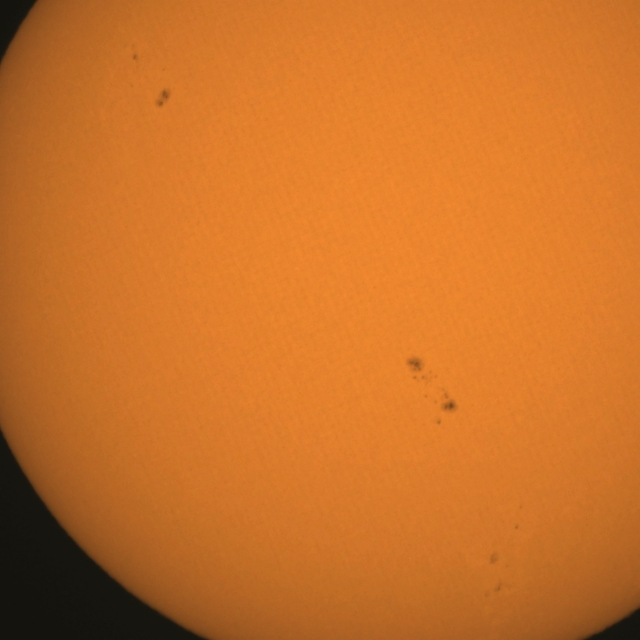sunspot: (405, 356, 441, 387), (432, 392, 458, 426), (153, 87, 172, 109), (483, 580, 503, 598), (130, 45, 140, 62), (488, 552, 500, 566), (494, 582, 503, 594), (513, 523, 520, 531), (161, 66, 166, 72)
